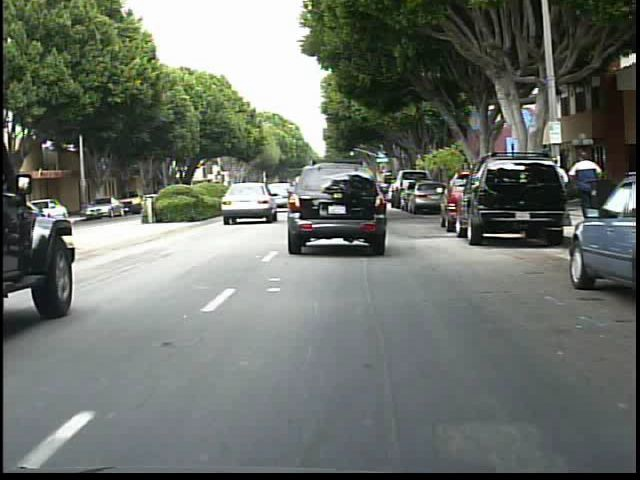person: (568, 145, 605, 226), (541, 154, 569, 225)
